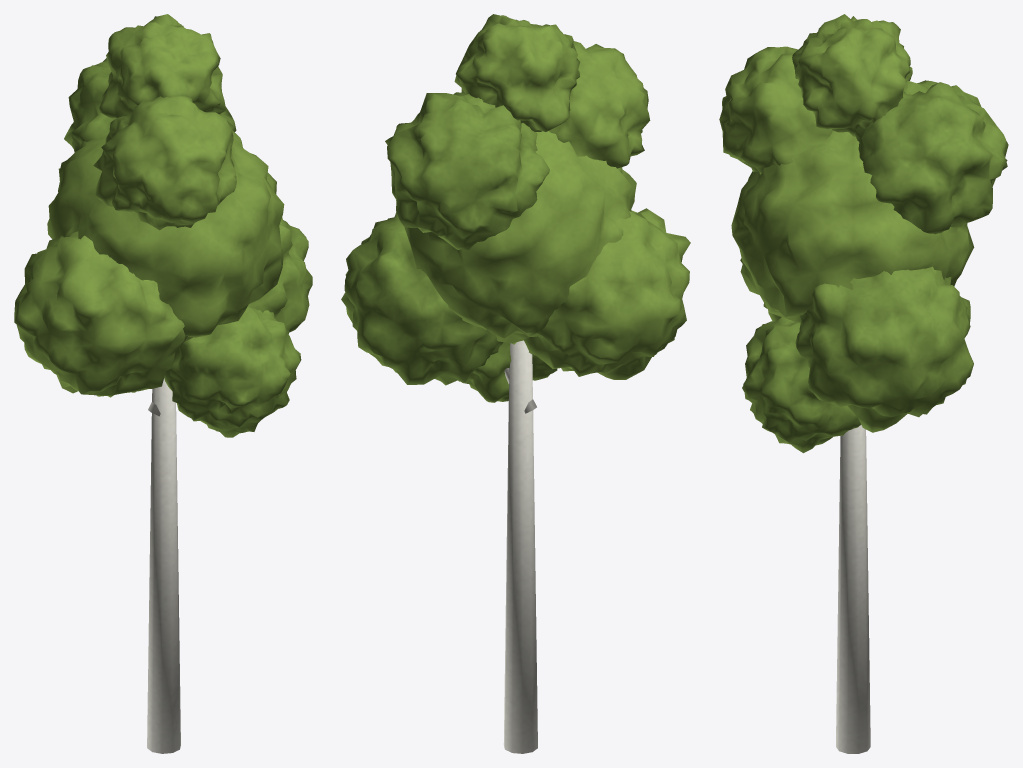
File: birch.glb
The picture shows the model from 3 angles, left to right: view 1: azimuth 30°, elevation 25°; view 2: azimuth 150°, elevation 25°; view 3: azimuth 270°, elevation 25°; orthographic projection.
Visible parts, largest first — view 1: birch; view 2: birch; view 3: birch.
Boxes of the visible parts, x1,y1,x2,y2 form: birch: (14,14,312,753); birch: (341,14,690,753); birch: (719,14,1008,753).
Size of the model in its own units: 3.41 by 7.79 by 2.82.
1 material, 1 textured.
